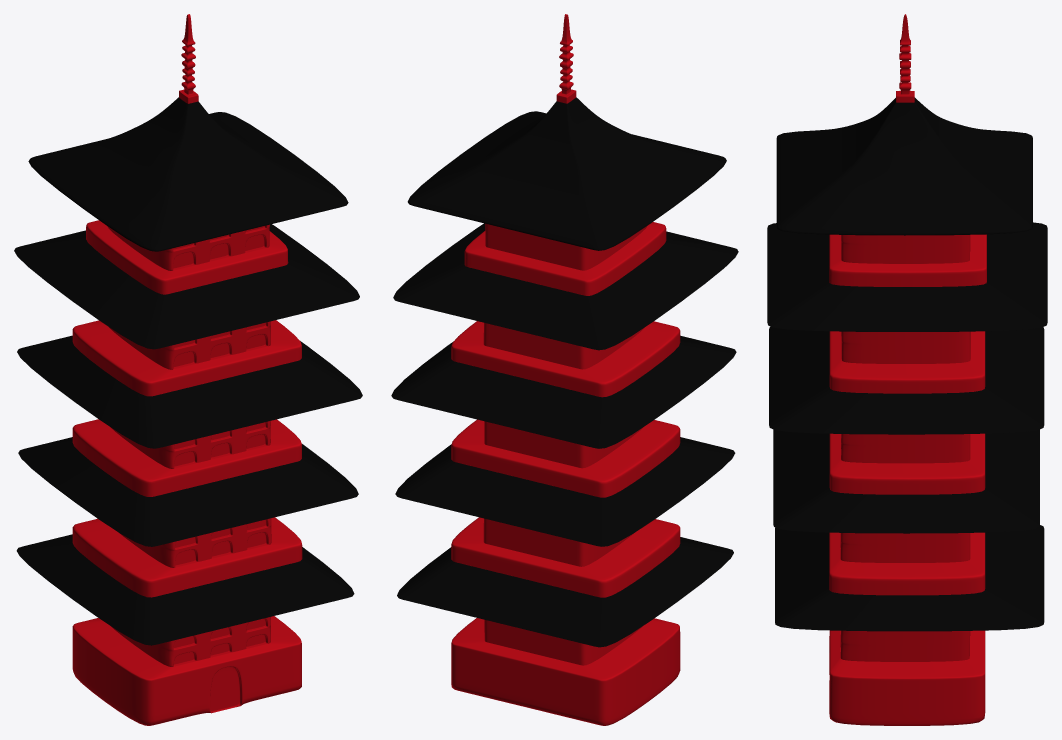
File: edificios zaxxon1.fbx
3 views of the same model, side by side, from view 1: azimuth 30°, elevation 25°; view 2: azimuth 150°, elevation 25°; view 3: azimuth 270°, elevation 25° (orthographic).
Parts seen in each view (by area): view 1: Edificio 1; view 2: Edificio 1; view 3: Edificio 1.
Part boxes in pixels (x1,y1,x2,y2): Edificio 1: (14,14,362,725); Edificio 1: (391,14,738,725); Edificio 1: (767,14,1047,725).
Bounding box in the file's own units: 32.23 × 88.16 × 33.35.
